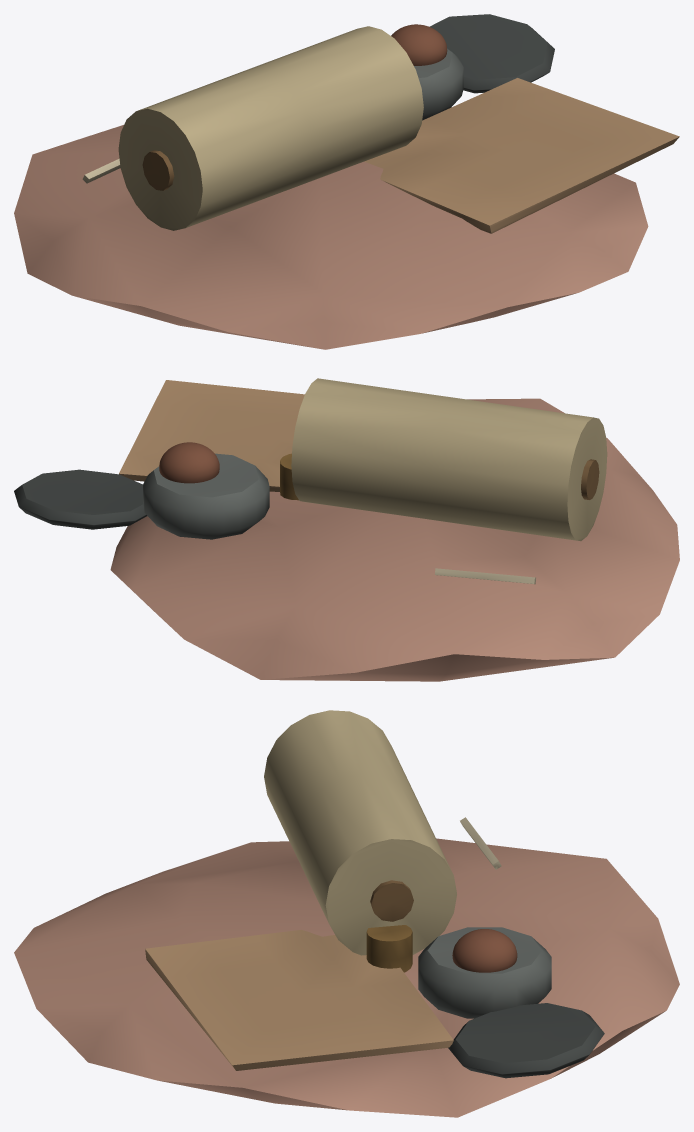
The model's file is patch_bolt_a.glb.
3 renders of one model, top to bottom at view 1: azimuth 30°, elevation 25°; view 2: azimuth 150°, elevation 25°; view 3: azimuth 270°, elevation 25°, orthographic. The views are drawn at different scales.
Parts seen in each view (by area): view 1: Surface; view 2: Surface; view 3: Surface.
Boxes of the visible parts, box(x1,y1,x2,y2) form: Surface: box(14, 14, 679, 349); Surface: box(14, 378, 679, 681); Surface: box(14, 710, 679, 1117).
Size of the model in its own units: 1.64 by 0.6368 by 1.61.
